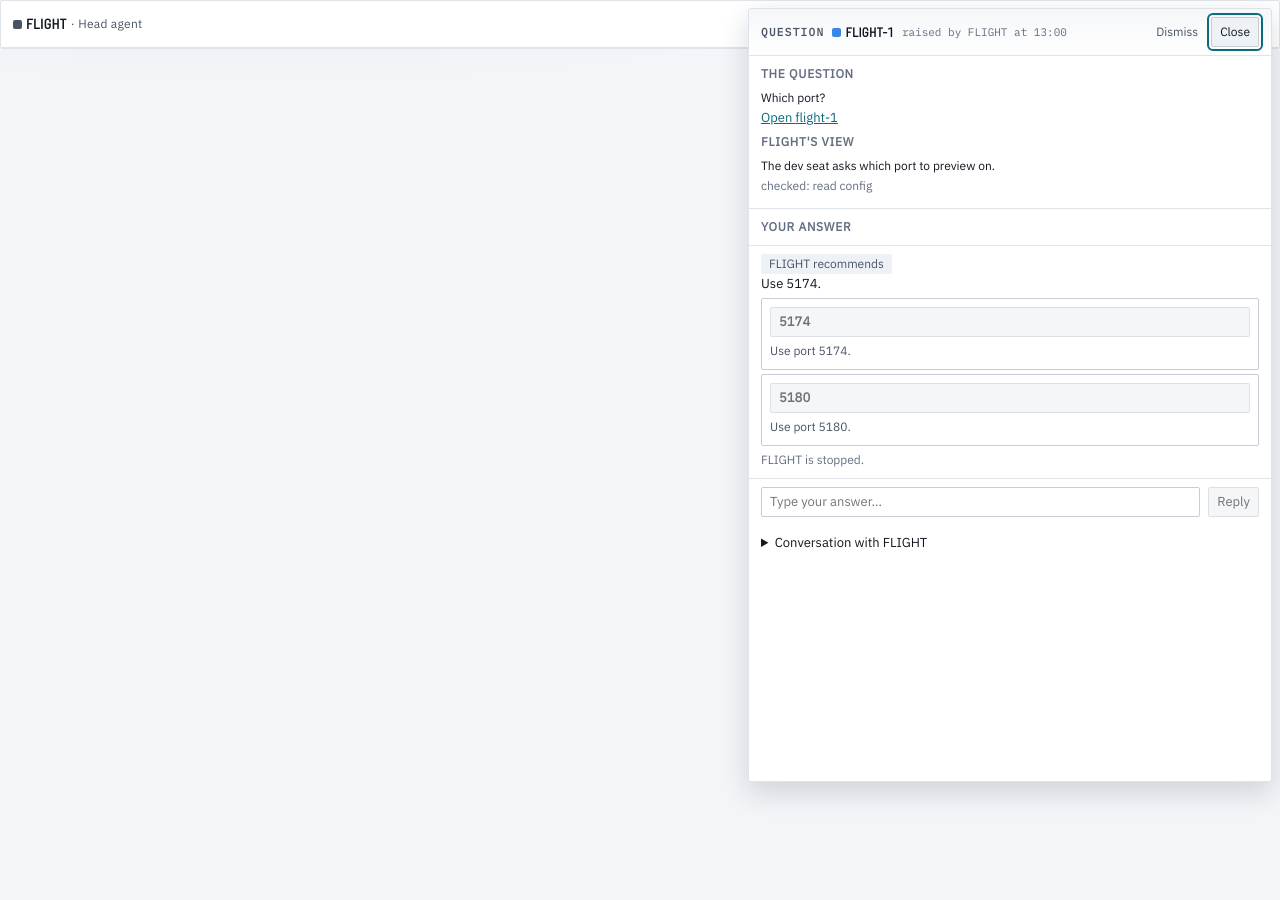
Test: ItemPanel, acting on an item › with FLIGHT stopped, an answer for FLIGHT cannot be sent
The image size is (1280, 900).
Expected: the button "5174" is disabled, [770,307,1250,337]
Click the heading "Conversation with FLIGHT" at (851, 542), box [775,534,927,551]
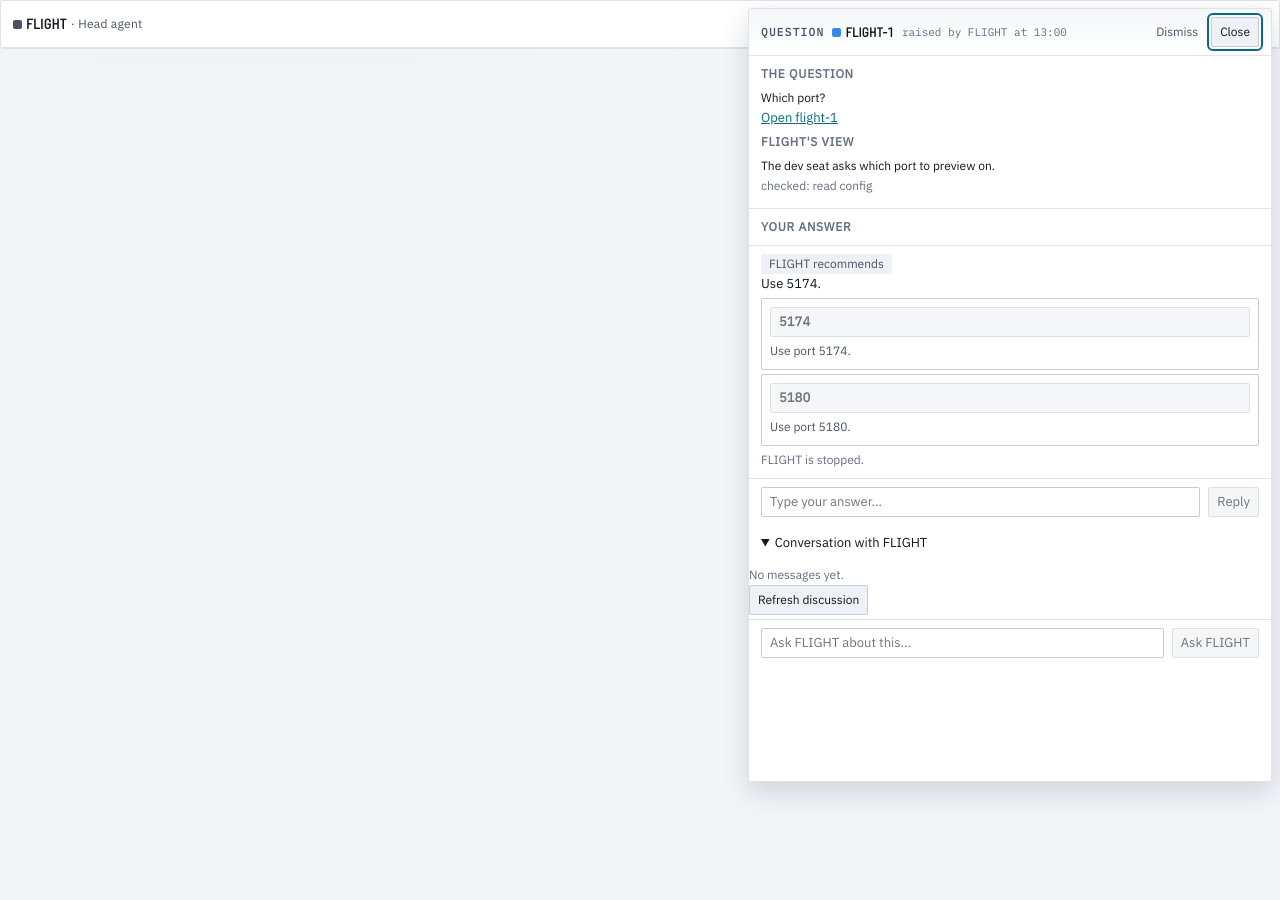
Expected: the button "Ask FLIGHT" is disabled, [1172,628,1259,658]
